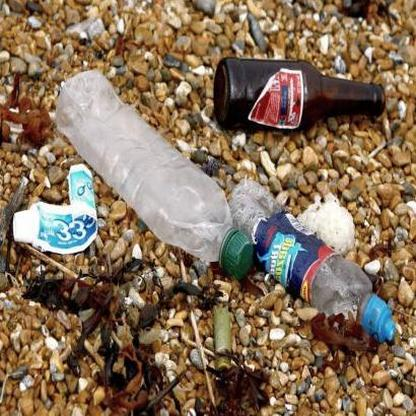plastic bottle: (56, 70, 251, 278), (231, 179, 391, 339)
